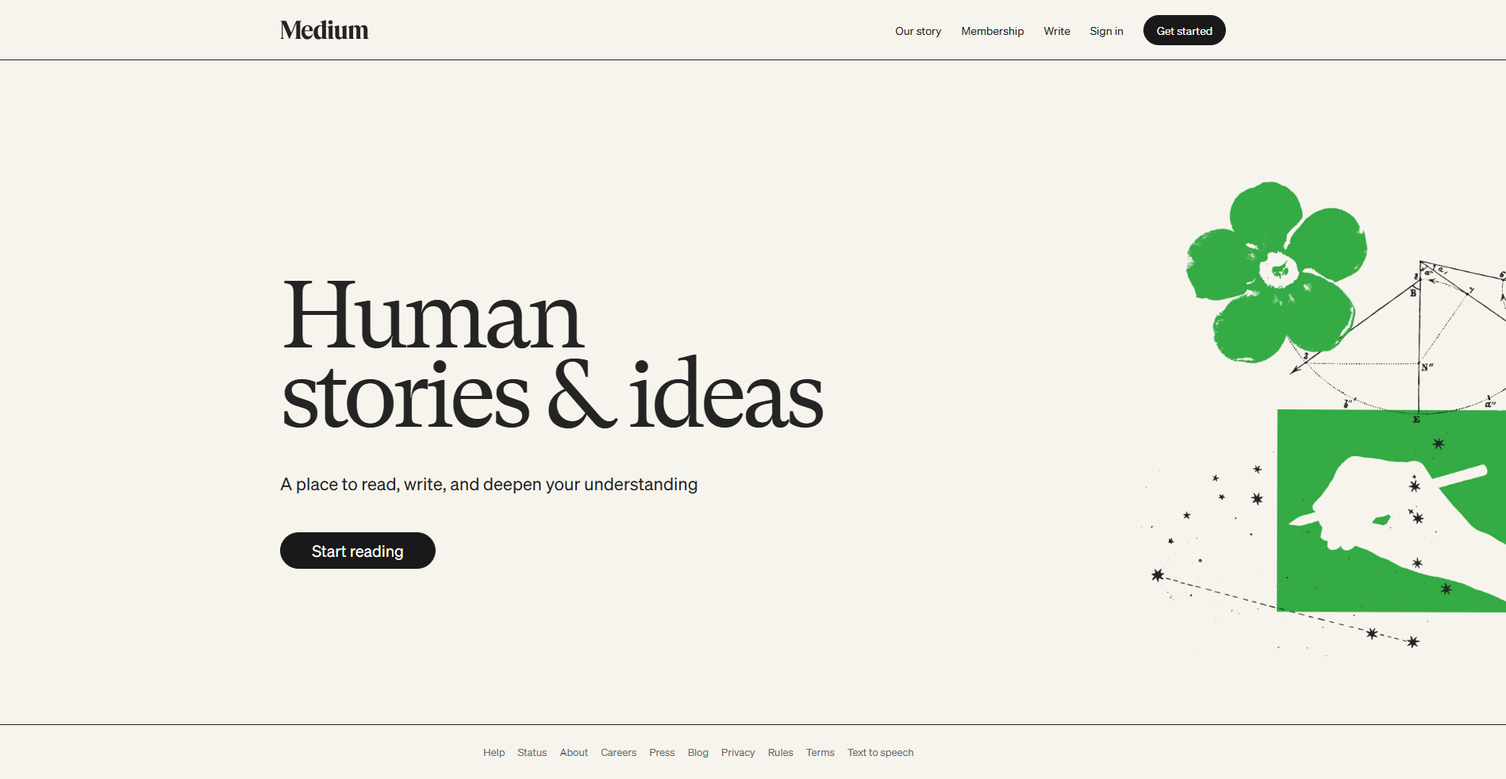button: (280, 20, 369, 36), (1143, 21, 1226, 38), (847, 744, 914, 760), (961, 23, 1024, 37), (895, 23, 941, 37), (601, 744, 637, 760), (721, 744, 755, 760), (518, 744, 547, 760), (806, 744, 835, 760), (1090, 23, 1123, 37), (560, 744, 588, 760), (649, 744, 675, 760), (768, 744, 793, 760), (1044, 23, 1070, 37), (483, 744, 505, 760), (688, 744, 709, 760)
link: (280, 532, 436, 568), (1143, 15, 1226, 45)
toggle: (1141, 180, 1506, 656)
